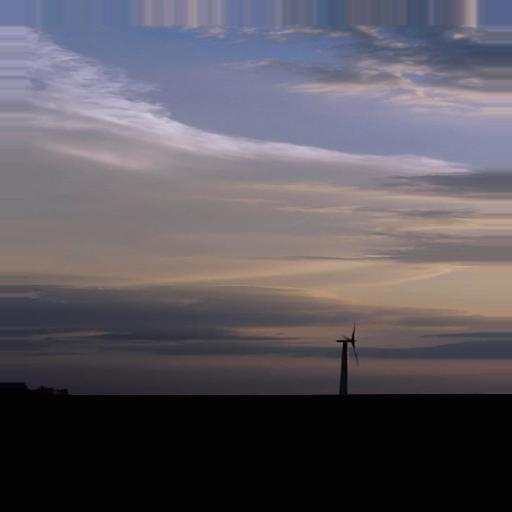wind turbine: (329, 320, 360, 395)
